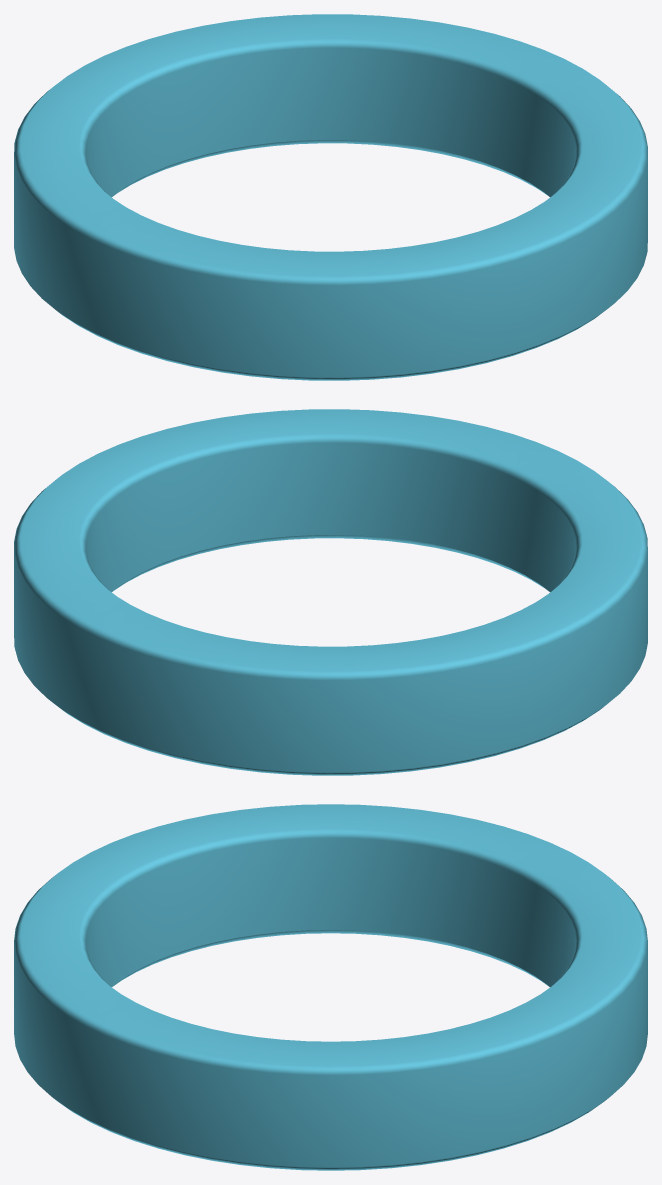
3 renders of one model, top to bottom at view 1: azimuth 30°, elevation 25°; view 2: azimuth 150°, elevation 25°; view 3: azimuth 270°, elevation 25°, orthographic.
Parts seen in each view (by area): view 1: seal_body; view 2: seal_body; view 3: seal_body.
Boxes of the visible parts, box(x1,y1,x2,y2) form: seal_body: box(14, 14, 647, 380); seal_body: box(14, 409, 647, 775); seal_body: box(14, 804, 647, 1170).
Bounding box in the file's own units: 0.0698 × 0.0127 × 0.0698.
